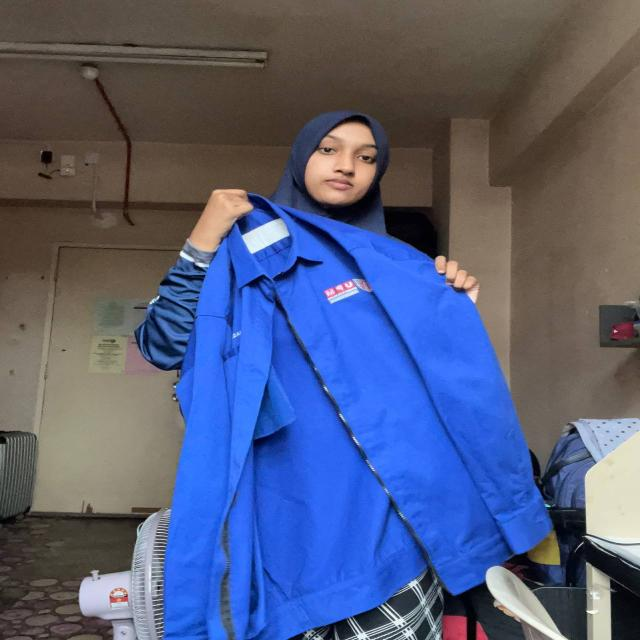person_without_labcoat: (136, 112, 550, 640)
